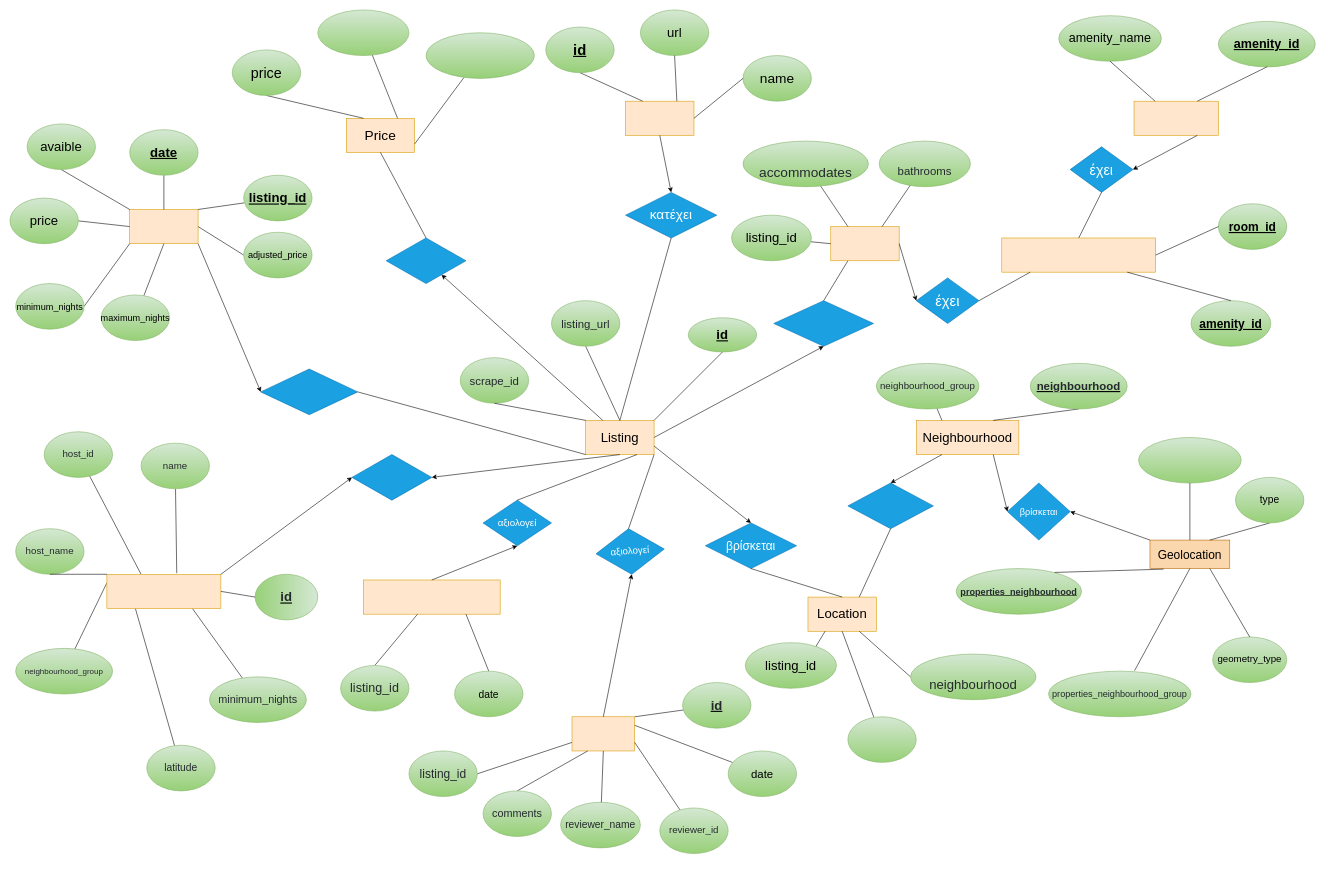
Some shapes in this 1325 by 870 pixel diagram are drawn without their labels. The shapes that lost their labels are listed below. From the top down, each one's box as (x1, y1, x2, y2) in pixels, then its label:
(317, 9, 409, 56): weekly_price
(426, 32, 534, 78): monthly_price
(625, 101, 694, 135): Host
(1133, 101, 1218, 135): Amenity
(129, 209, 198, 244): Calendar
(830, 226, 899, 261): Room
(386, 237, 466, 284): κοστίζει
(1001, 237, 1156, 272): Room_amenity_Connection
(773, 300, 874, 346): προωθεί
(260, 369, 358, 415): δείχνει διαθεσιμότητα
(351, 454, 432, 500): περιλαμβάνει
(1138, 437, 1241, 483): geometry_coordinates
(847, 483, 933, 529): ανήκει
(106, 574, 221, 608): Listing_Summary
(363, 579, 500, 614): Review_Summary
(571, 716, 635, 751): Review
(847, 716, 916, 762): street
